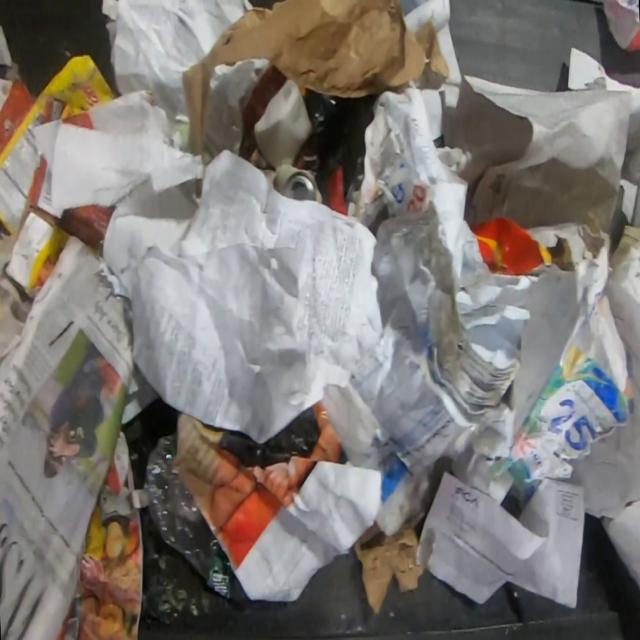cardboard: (0, 52, 121, 304), (352, 508, 428, 614)
metal: (271, 164, 323, 203)
rigid_plastic: (142, 434, 246, 599), (602, 0, 640, 53)
